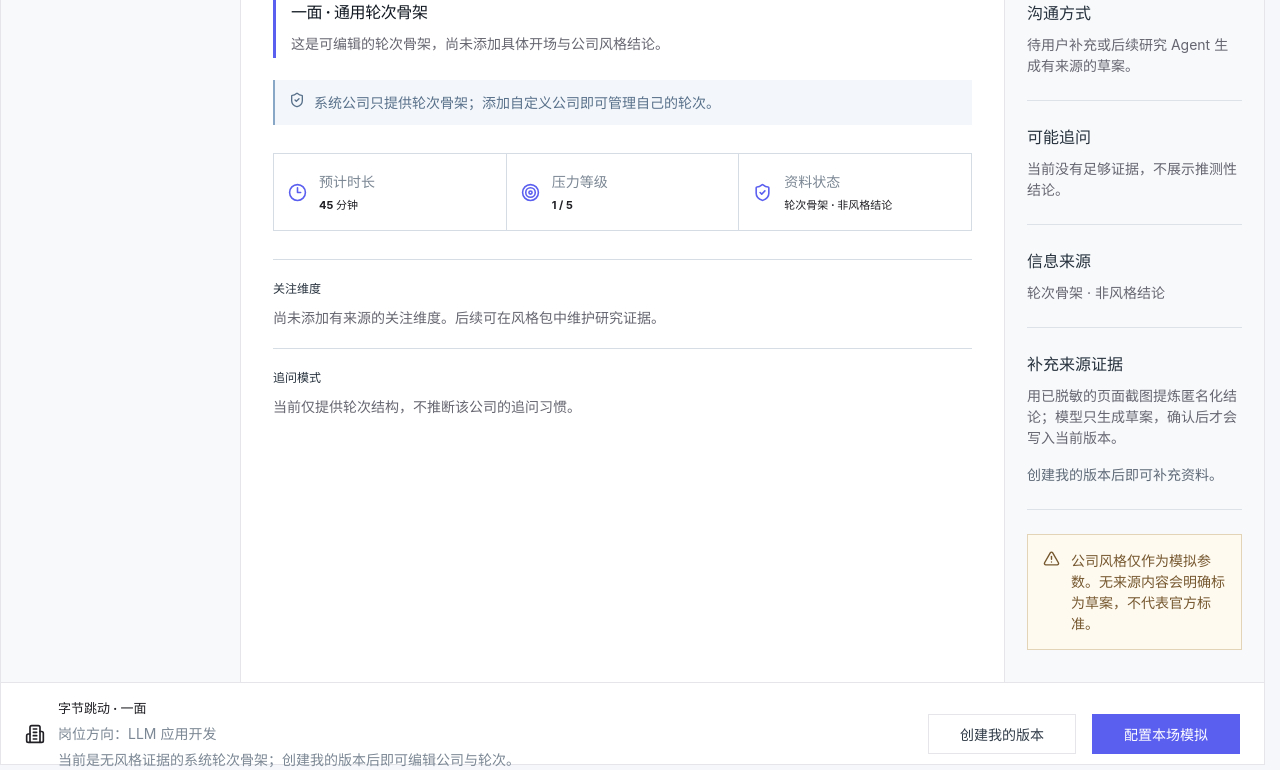
Scenario: CompanySelectionPage › keeps system skeletons visibly evidence-limited and read-only
This screenshot has width=1280, height=770.
(page scrolled)
Check: the text "系统公司只提供轮次骨架；添加自定义公司即可管理自己的轮次。" is shown, box [314,92,720,113]
Check: the text "当前是无风格证据的系统轮次骨架；创建我的版本后即可编辑公司与轮次。" is shown, box [58,749,520,764]
Click the button "创建我的版本": {"x": 1002, "y": 734} [928,714,1076,754]
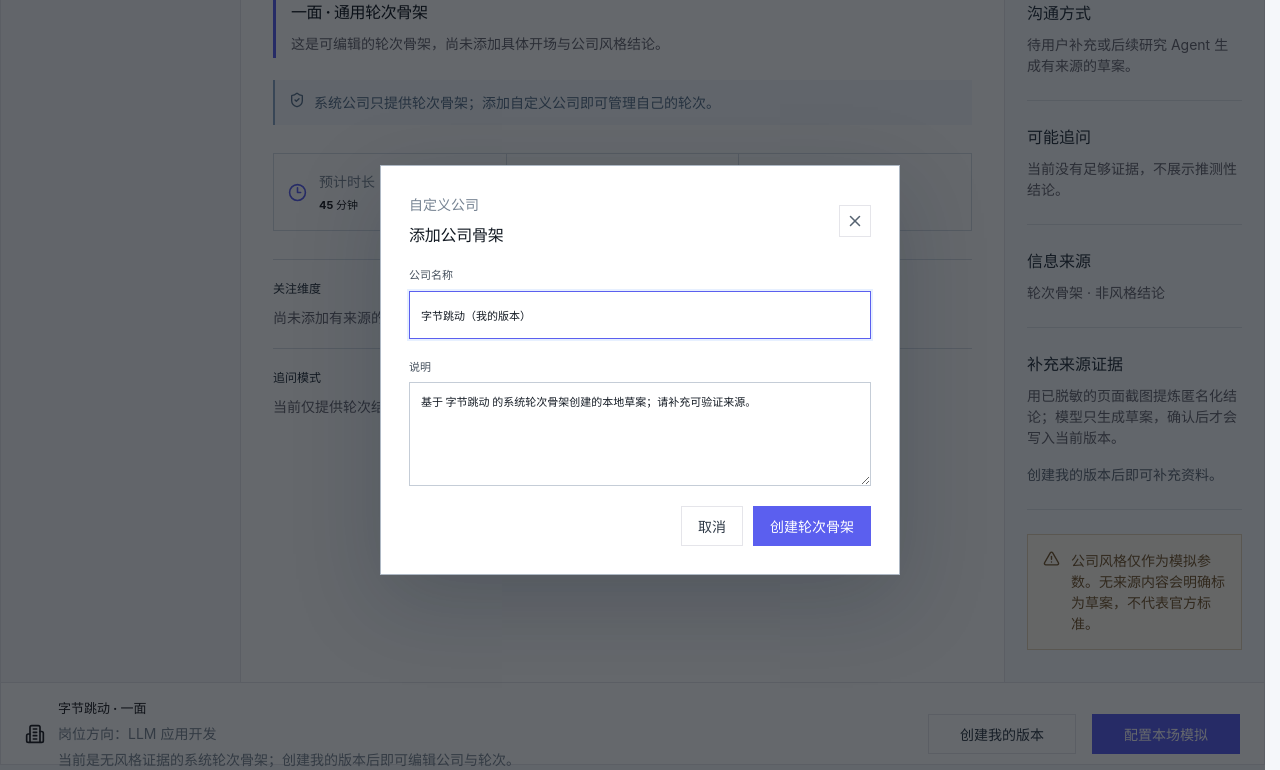
Check: the field labelled "公司名称" holds "字节跳动（我的版本）", box [409,290,871,338]
